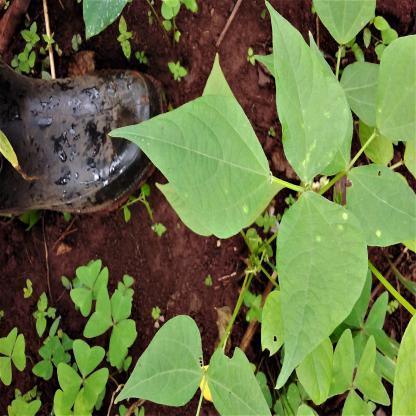Beans_Rust: (110, 96, 263, 231), (278, 195, 368, 392), (264, 0, 353, 182), (346, 167, 416, 257), (371, 38, 416, 142)
